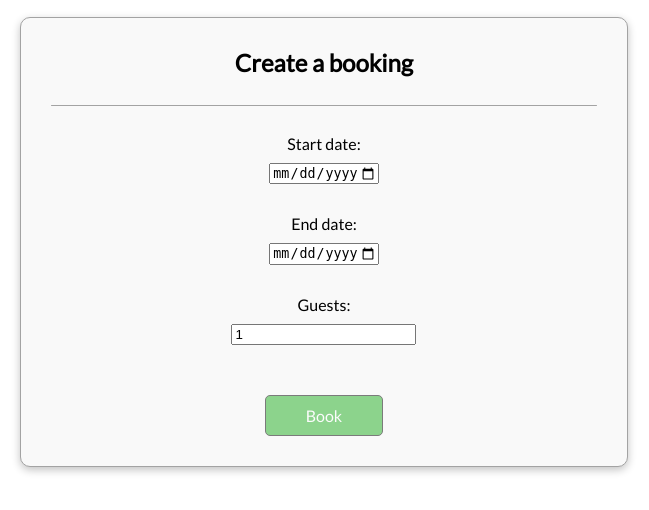
Test: Book property › guests validation works correctly
The width and height of the screenshot is (649, 510).
Replace the text in the number field with "-2" at (324, 334), box [232,324,416,345]
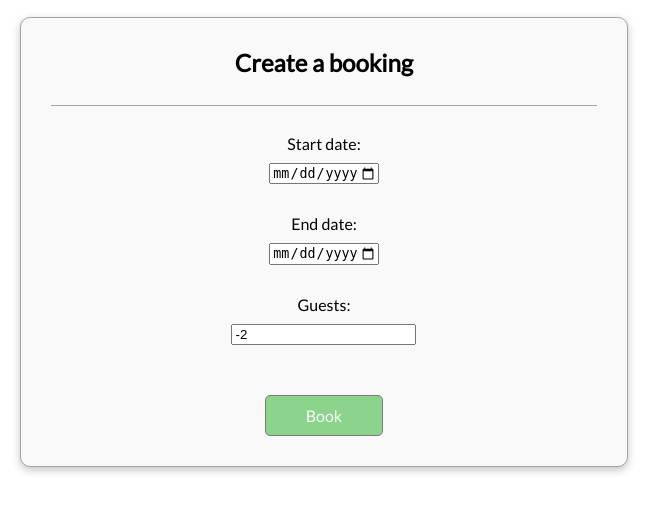
Leave the number field, box [232,324,416,345]
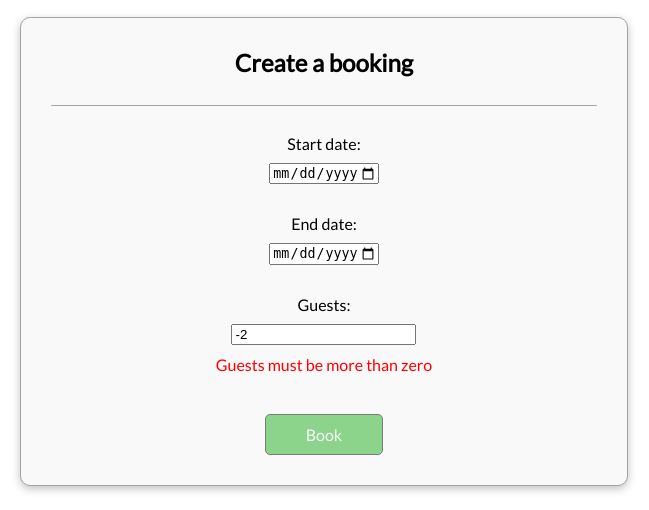
Expected: the text "Guests must be more than zero" is shown, [216,355,432,374]
